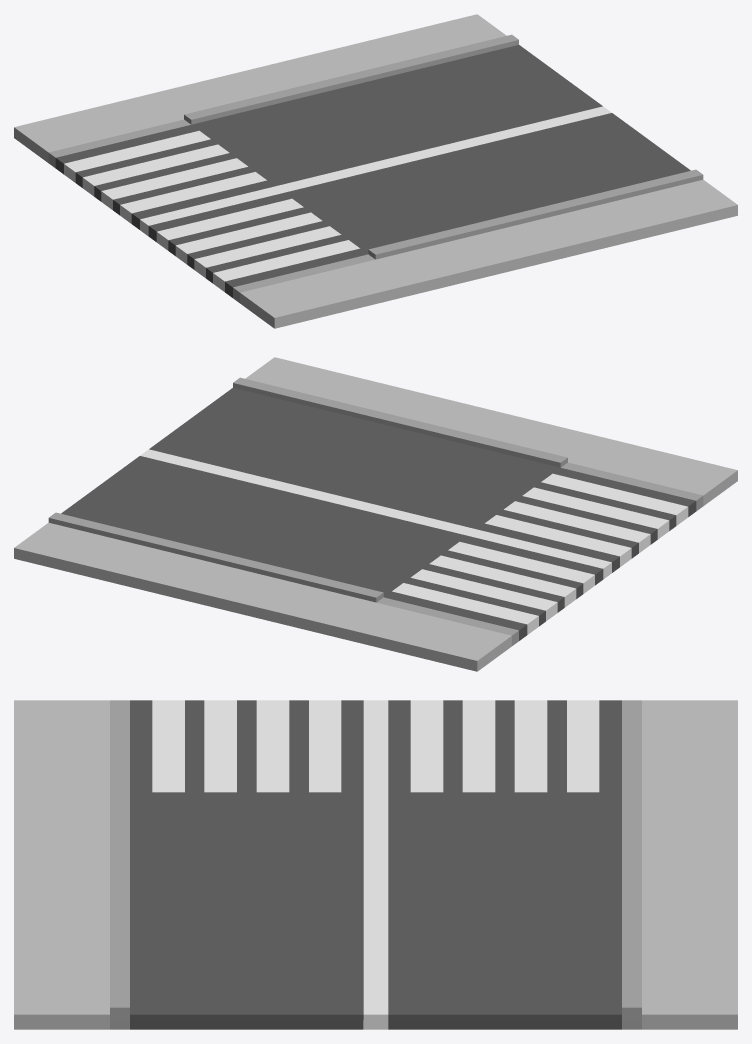
File: pedestrian road.fbx
3 renders of one model, top to bottom at view 1: azimuth 30°, elevation 25°; view 2: azimuth 150°, elevation 25°; view 3: azimuth 270°, elevation 25°, orthographic. The views are drawn at different scales.
Parts seen in each view (by area): view 1: pedestrian road; view 2: pedestrian road; view 3: pedestrian road.
Part boxes in pixels (x1,y1,x2,y2): pedestrian road: (14,14,737,328); pedestrian road: (14,357,737,671); pedestrian road: (14,700,737,1029).
Bounding box in the file's own units: 1345 × 43.56 × 1311.
